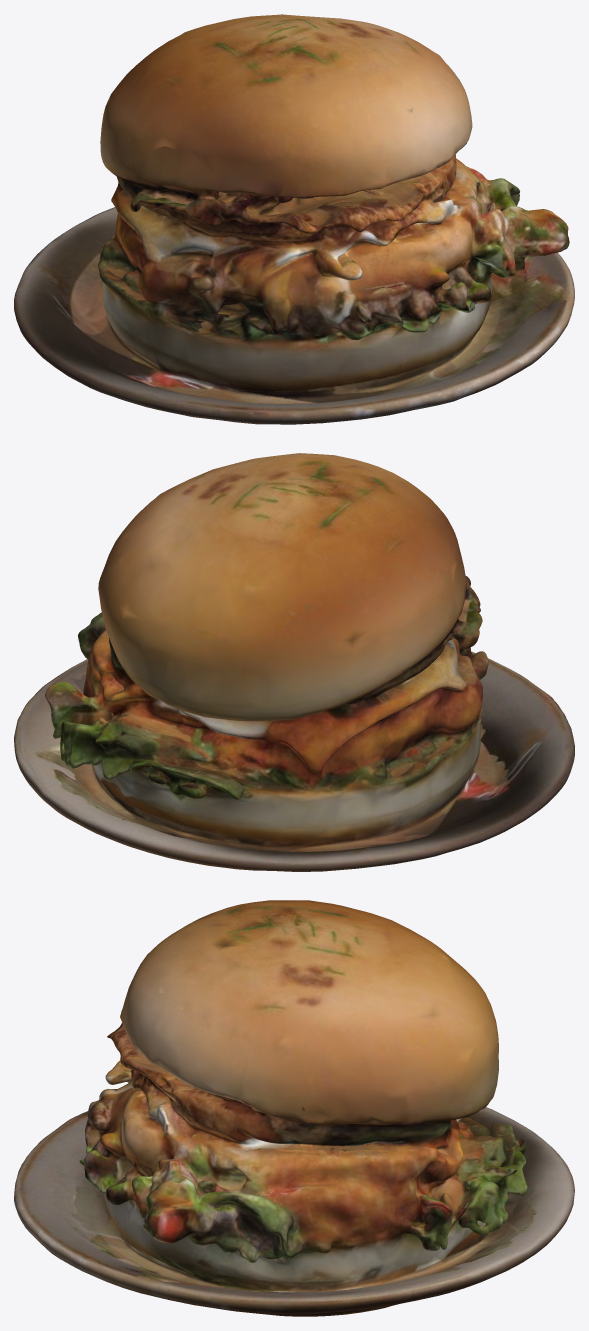
File: burger.glb
3 renders of one model, top to bottom at view 1: azimuth 30°, elevation 25°; view 2: azimuth 150°, elevation 25°; view 3: azimuth 270°, elevation 25°, orthographic.
Size of the model in its own units: 0.2196 by 0.1322 by 0.2201.
1 material, 1 textured.
